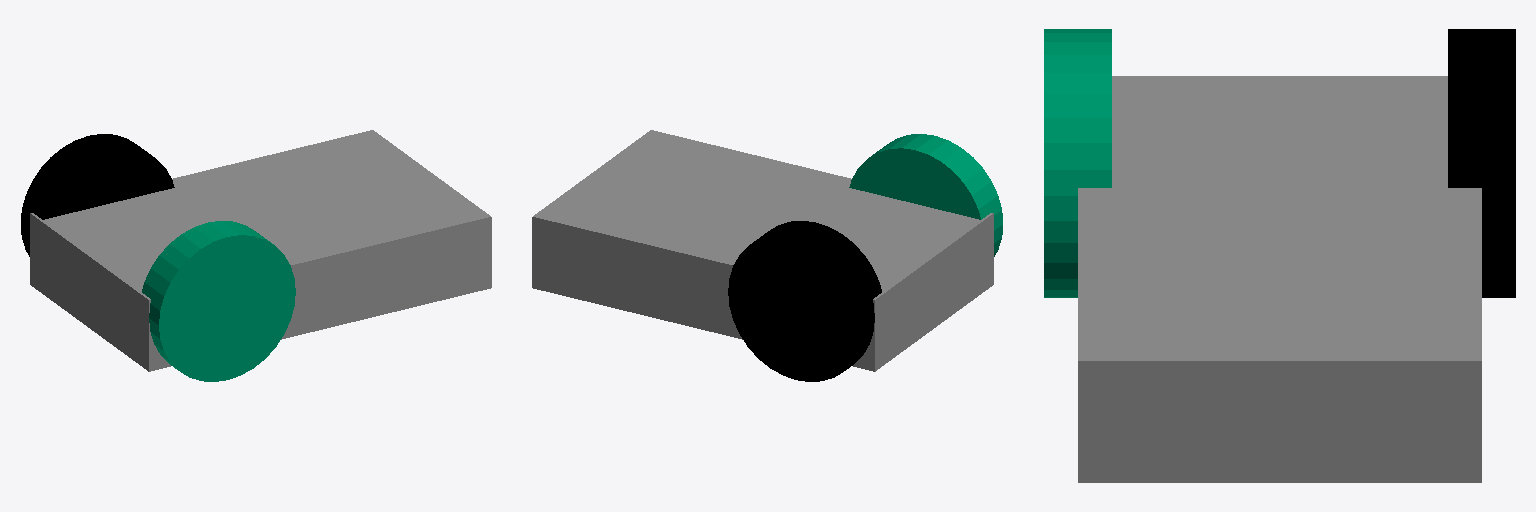
URDF robot description (simple_diff_drive_robot):
<?xml version="1.0"?>
<robot name="simple_diff_drive_robot">

  <!-- Main chassis -->
  <link name="base_link">
    <visual>
      <geometry>
        <box size="0.5 0.3 0.1"/>
      </geometry>
      <material name="gray">
        <color rgba="0.6 0.6 0.6 1"/>
      </material>
    </visual>
    <collision>
      <geometry>
        <box size="0.5 0.3 0.1"/>
      </geometry>
    </collision>
    <inertial>
      <mass value="2.0"/>
      <inertia ixx="0.01" iyy="0.01" izz="0.01" ixy="0" ixz="0" iyz="0"/>
    </inertial>
  </link>

  <!-- Left wheel -->
  <link name="left_wheel">
    <visual>
      <geometry>
        <cylinder length="0.05" radius="0.1"/>
      </geometry>
      <material name="white">
        <color rgba="0 0 0 1"/>
      </material>
    </visual>
  </link>

  <!-- Right wheel -->
  <link name="right_wheel">
    <visual>
      <geometry>
        <cylinder length="0.05" radius="0.10"/>
      </geometry>
      <material name="black"/>
    </visual>
  </link>

  <!-- Small rear wheel (caster) -->
  <link name="caster_wheel">
    <visual>
      <geometry>
        <sphere radius="0.02"/>
      </geometry>
      <material name="black"/>
    </visual>
  </link>

  <joint name="left_wheel_joint" type="continuous">
    <parent link="base_link"/>
    <child link="left_wheel"/>
    <origin xyz="-0.15 0.15 0.025" rpy="1.5708 0 0"/>
    <axis xyz="0 0 1"/>
  </joint>

  <joint name="right_wheel_joint" type="continuous">
    <parent link="base_link"/>
    <child link="right_wheel"/>
    <origin xyz="-0.15 -0.15 0.025" rpy="1.5708 0 0"/>
    <axis xyz="0 0 1"/>
  </joint>

  <joint name="caster_joint" type="fixed">
    <parent link="base_link"/>
    <child link="caster_wheel"/>
    <origin xyz="0.15 0 -0.05" rpy="0 0 0"/>
  </joint>

</robot>

--- Facts derived from the render (not from the file) ---
Views: 3 orthographic renders of the robot side by side, from view 1: azimuth 30°, elevation 25°; view 2: azimuth 150°, elevation 25°; view 3: azimuth 270°, elevation 25°.
Model simple_diff_drive_robot with 4 links and 3 joints (2 continuous, 1 fixed), rooted at base_link, posed all joints at 0.
Visible links, largest first — view 1: base_link, right_wheel, left_wheel; view 2: base_link, left_wheel, right_wheel; view 3: base_link, left_wheel, right_wheel.
Link boxes in pixels (bbox=[...]): base_link: bbox=[30, 130, 491, 371]; right_wheel: bbox=[142, 221, 295, 381]; left_wheel: bbox=[21, 134, 174, 256]; base_link: bbox=[532, 130, 993, 371]; left_wheel: bbox=[728, 221, 881, 381]; right_wheel: bbox=[849, 134, 1002, 256]; base_link: bbox=[1078, 76, 1481, 482]; left_wheel: bbox=[1448, 29, 1515, 297]; right_wheel: bbox=[1044, 29, 1111, 297].
Size in the robot's own frame: 0.5 by 0.35 by 0.2 metres.
Geometry: primitives only (box / cylinder / sphere), no mesh files.
